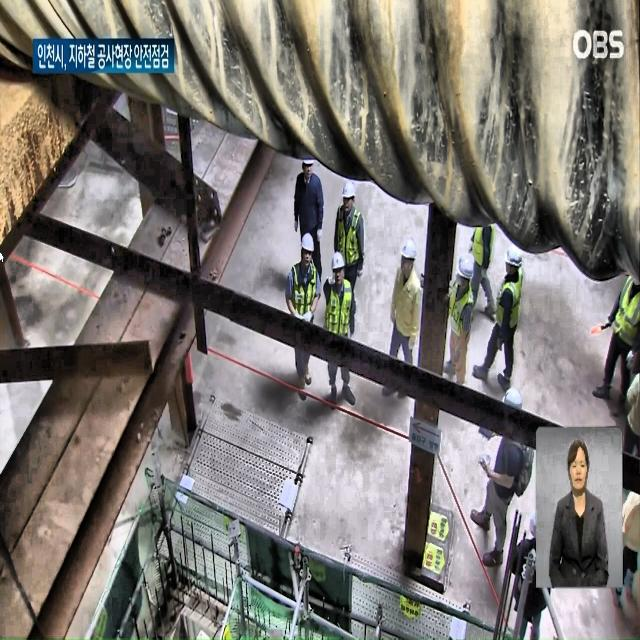safety_helmet: (392, 242, 420, 277), (338, 178, 362, 210), (500, 238, 524, 268), (301, 228, 321, 260), (459, 256, 482, 283), (332, 248, 348, 276)
safety_jacket: (492, 266, 533, 356), (609, 268, 640, 356), (284, 266, 318, 336), (328, 292, 356, 357), (447, 283, 478, 339), (336, 224, 372, 272), (467, 224, 494, 277)
